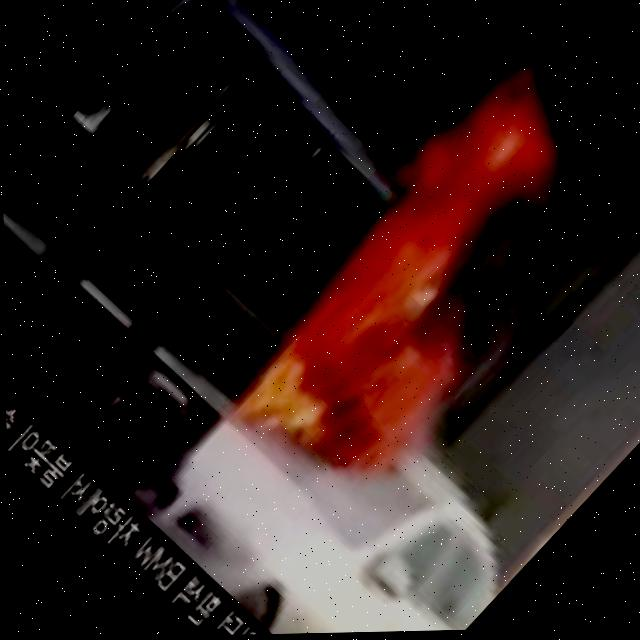Fire: (187, 37, 640, 529)
